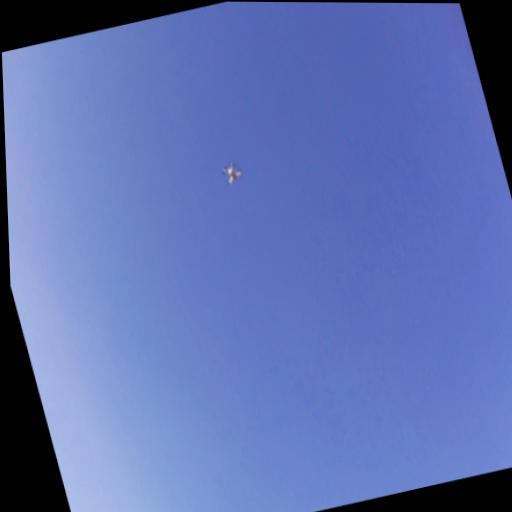drones: (218, 155, 250, 196)
